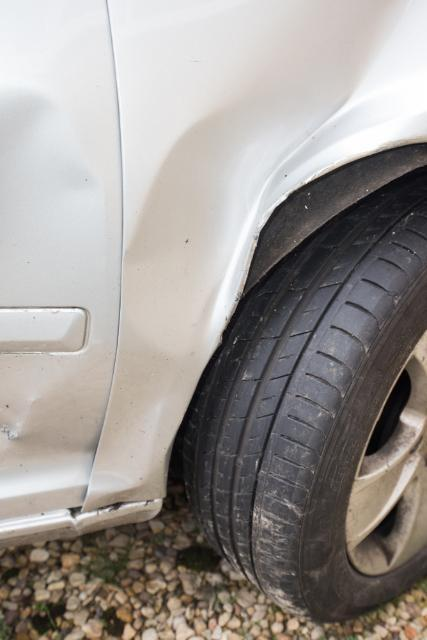dent: (125, 0, 427, 362), (0, 92, 108, 457)
